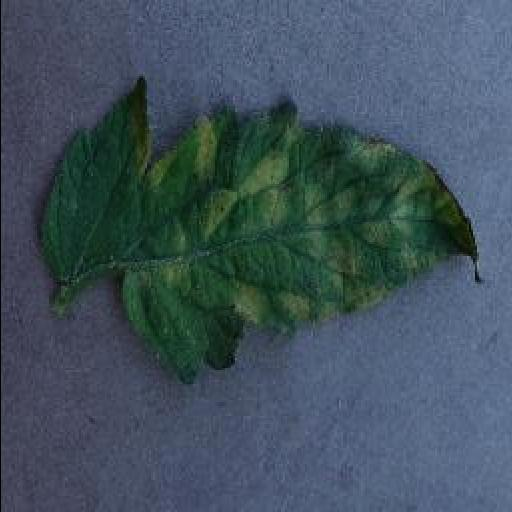disease_tomato: (42, 79, 482, 384)
